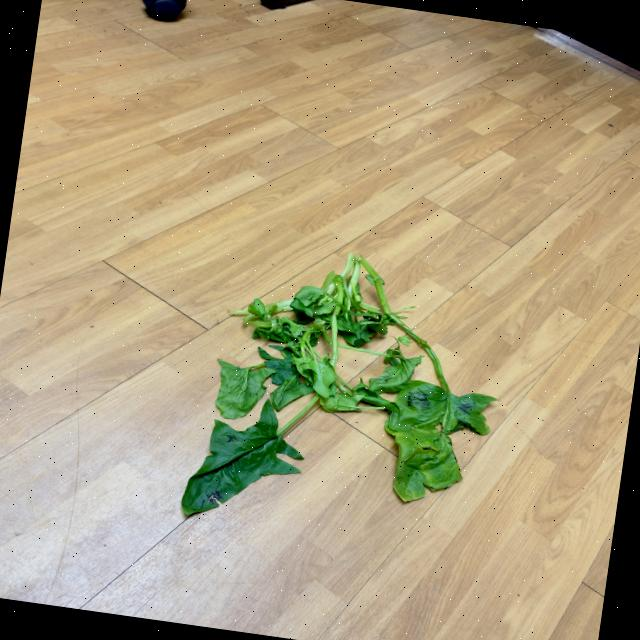rotten spinach: (170, 230, 517, 564)
